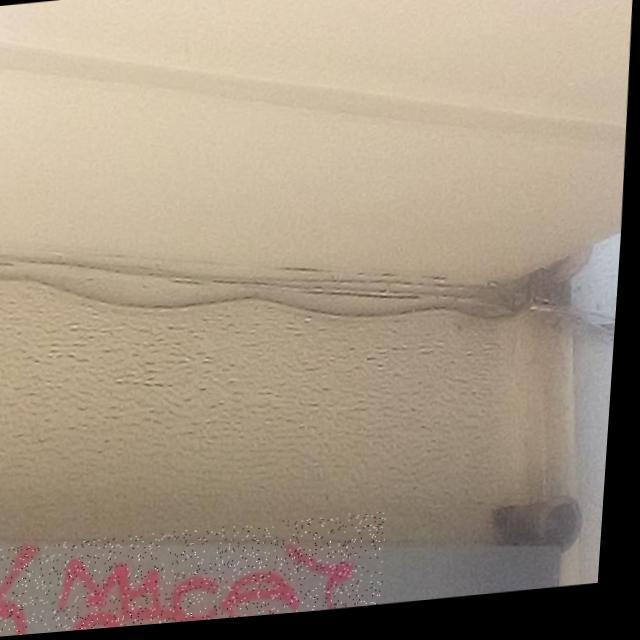-: (0, 517, 395, 639)
